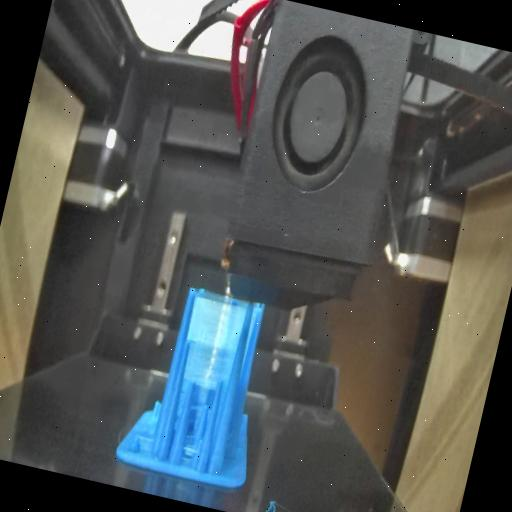stringing: (174, 291, 262, 396), (177, 396, 211, 467)
